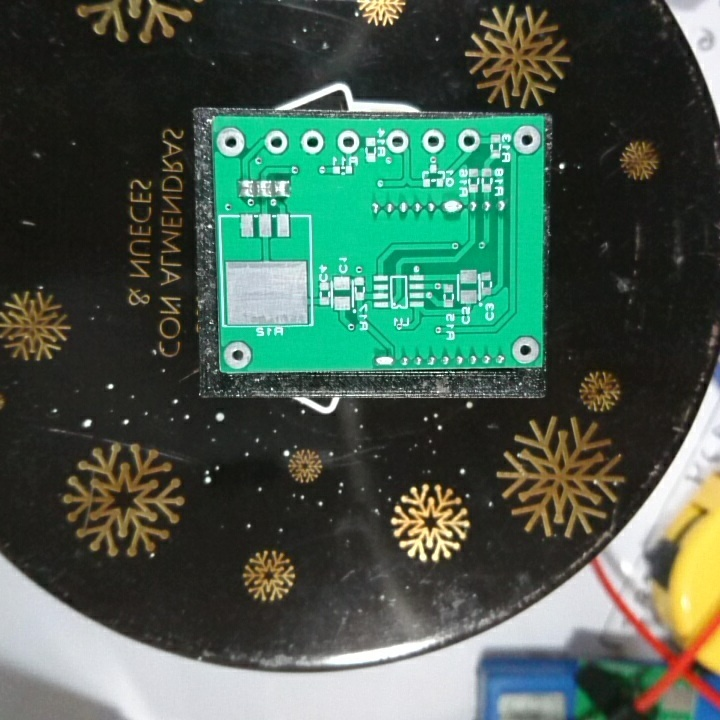F: (221, 339, 253, 373), (511, 123, 541, 157), (509, 334, 541, 365), (215, 126, 246, 158), (299, 128, 326, 157), (261, 129, 291, 154), (384, 128, 410, 156), (336, 128, 362, 155), (456, 127, 481, 154), (421, 127, 445, 154)
P: (440, 195, 464, 220), (373, 352, 394, 372)
